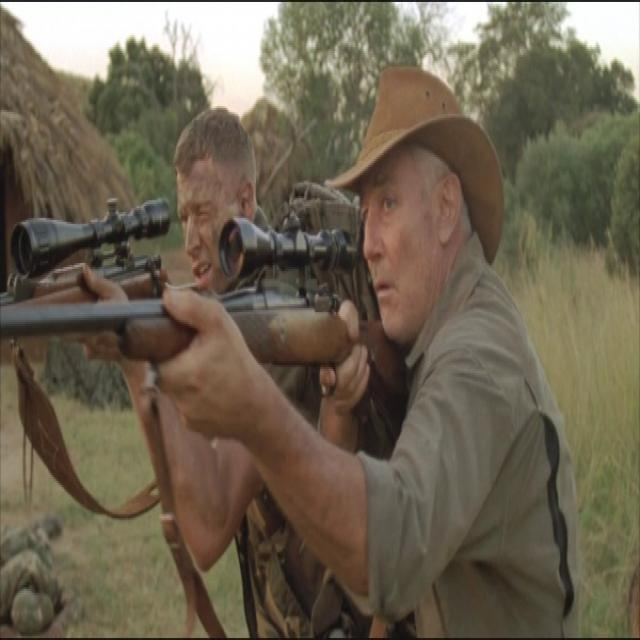rifle: (0, 224, 358, 388), (6, 201, 187, 304)
